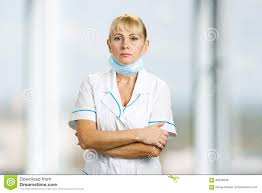mask_weared_incorrect: (110, 33, 144, 70)
